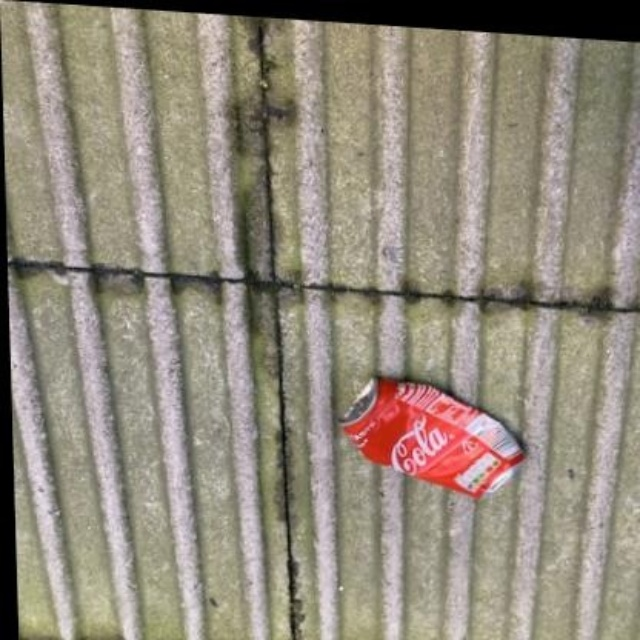trash: (342, 377, 523, 497)
